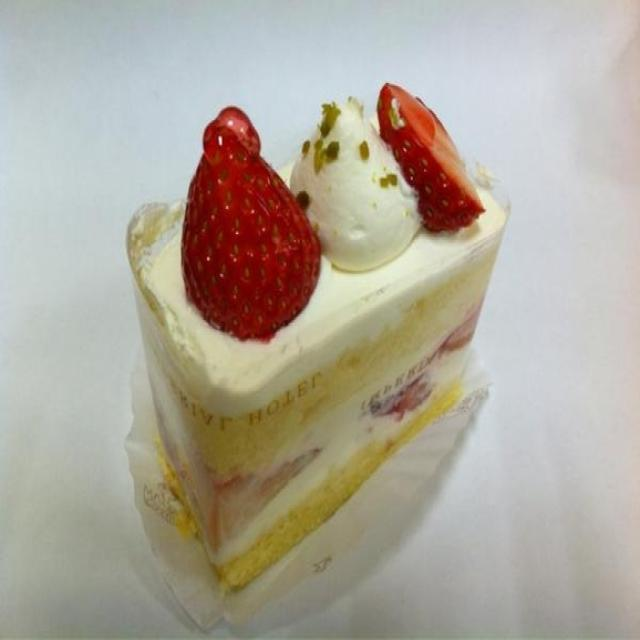汉堡快餐: (94, 32, 425, 600)
